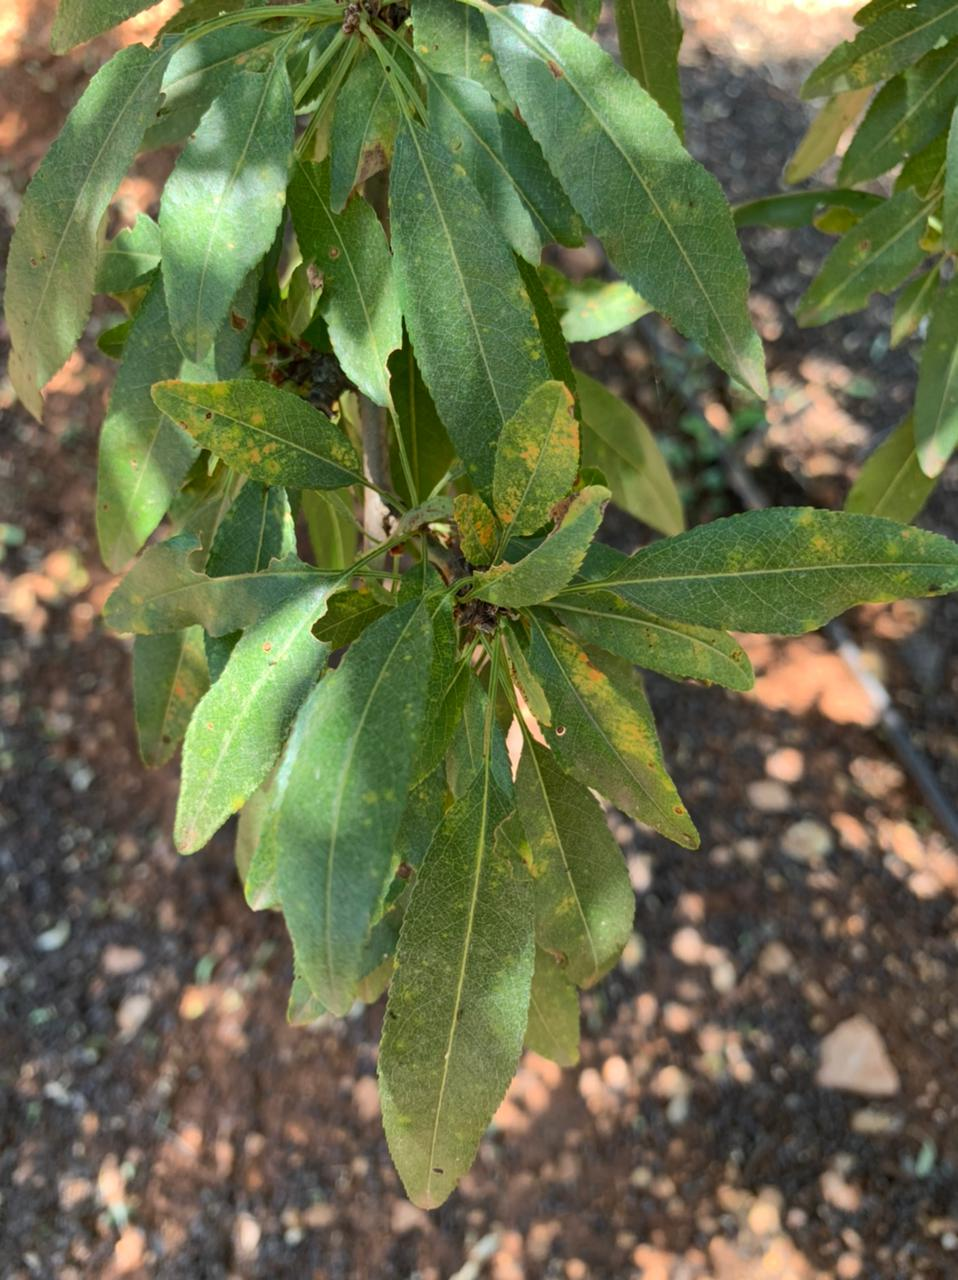rouille: (485, 4, 767, 403), (379, 767, 533, 1214), (174, 585, 354, 854), (529, 621, 701, 853), (132, 477, 250, 769), (147, 377, 374, 496)
